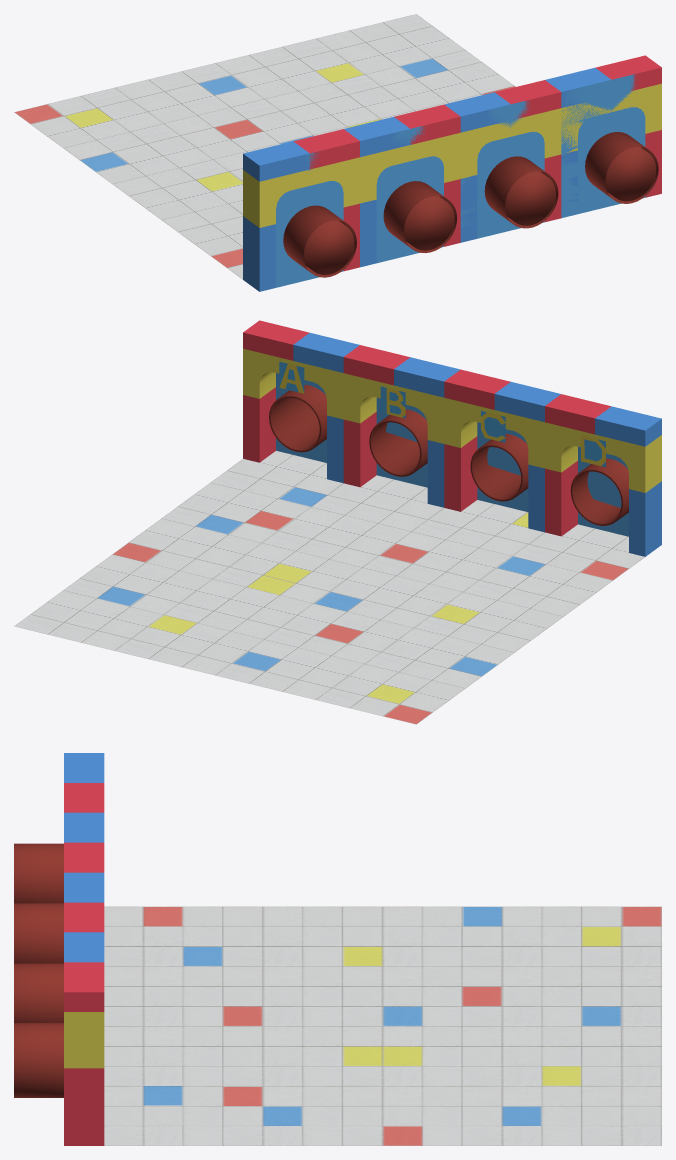
Rendered from san4.fbx.
3 views of the same model, one above another, from view 1: azimuth 30°, elevation 25°; view 2: azimuth 150°, elevation 25°; view 3: azimuth 270°, elevation 25° (orthographic). The views are drawn at different scales.
Visible parts, largest first — view 1: Plane.001, ong cong 16.004, Cube.008, Cube.007, Cube.006, Cube.005; view 2: Plane.001, Cube.008, ong cong 16.004, Cube.006, Cube.007, Cube.005, Plane.002; view 3: Plane.001, ong cong 16.004, Cube.005, Cube.007, Cube.006, Cube.008.
Part boxes in pixels (bbox=[...]): Plane.001: bbox=[14, 14, 653, 287]; ong cong 16.004: bbox=[283, 132, 658, 277]; Cube.008: bbox=[243, 129, 359, 291]; Cube.007: bbox=[344, 104, 460, 267]; Cube.006: bbox=[444, 80, 561, 242]; Cube.005: bbox=[545, 55, 661, 201]; Plane.001: bbox=[14, 373, 644, 724]; Cube.008: bbox=[545, 394, 661, 556]; ong cong 16.004: bbox=[269, 384, 628, 525]; Cube.006: bbox=[343, 345, 460, 507]; Cube.007: bbox=[444, 369, 560, 532]; Cube.005: bbox=[243, 320, 359, 483]; Plane.002: bbox=[279, 361, 605, 467]; Plane.001: bbox=[104, 906, 661, 1145]; ong cong 16.004: bbox=[14, 843, 63, 1097]; Cube.005: bbox=[64, 932, 104, 1145]; Cube.007: bbox=[64, 812, 104, 872]; Cube.006: bbox=[64, 872, 104, 932]; Cube.008: bbox=[64, 753, 104, 812].
Size of the model in its own units: 3224 by 967 by 3691.
